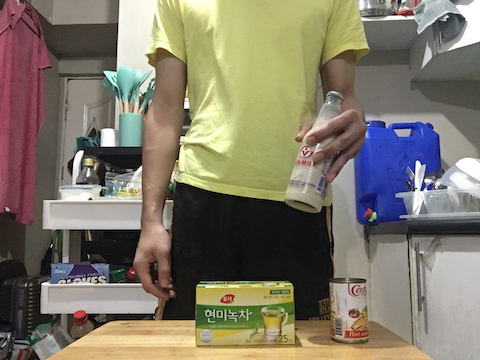bottle: (282, 86, 349, 219)
box: (190, 278, 299, 350)
can: (327, 274, 371, 347)
grab: (303, 105, 370, 186)
